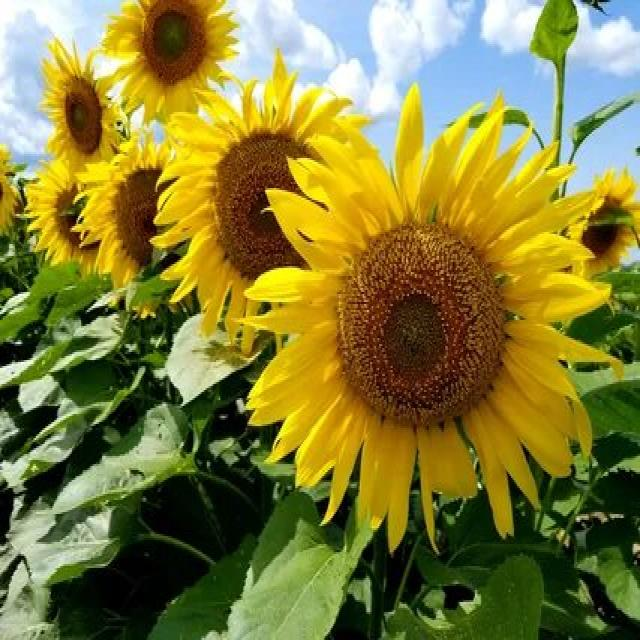sunflower: (225, 78, 605, 534), (159, 74, 375, 348), (79, 138, 192, 302), (109, 0, 240, 123), (33, 28, 127, 186), (562, 160, 640, 286)
